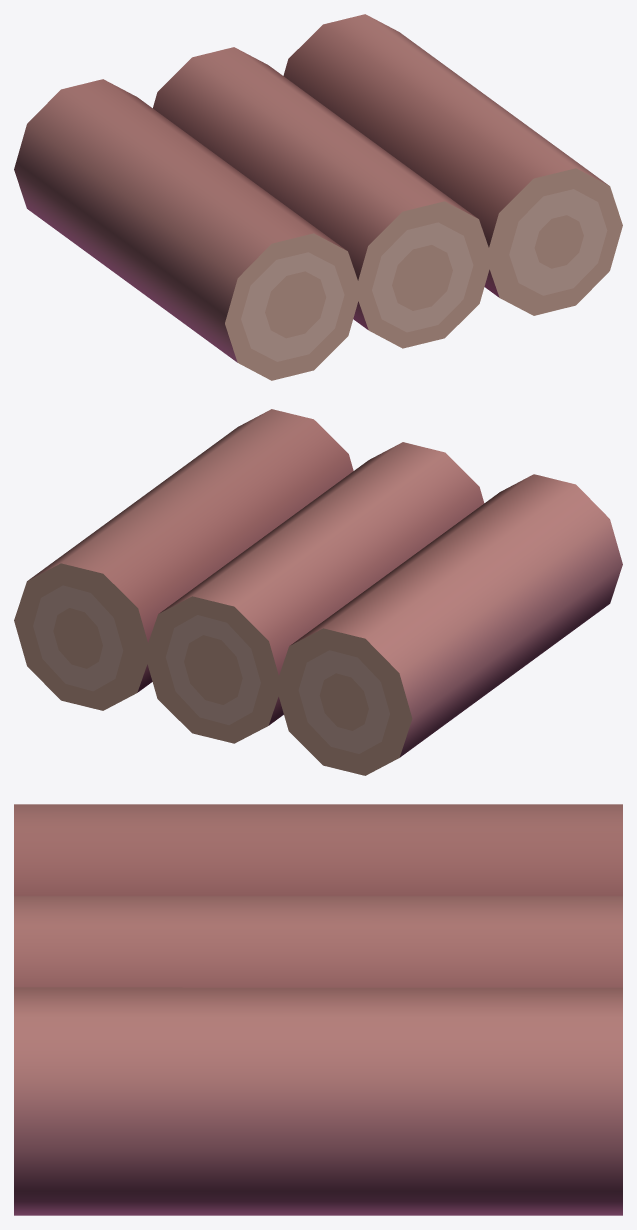
File: obstacle-log_platform_H1W2.glb
3 views of the same model, one above another, from view 1: azimuth 30°, elevation 25°; view 2: azimuth 150°, elevation 25°; view 3: azimuth 270°, elevation 25° (orthographic). The views are drawn at different scales.
Parts seen in each view (by area): view 1: obstacle-log_platform_H1W2; view 2: obstacle-log_platform_H1W2; view 3: obstacle-log_platform_H1W2.
Boxes of the visible parts, <box> form: obstacle-log_platform_H1W2: <box>14,14,622,380</box>; obstacle-log_platform_H1W2: <box>14,409,622,775</box>; obstacle-log_platform_H1W2: <box>14,804,622,1215</box>.
Bounding box in the file's own units: 6.55 × 2.17 × 6.
